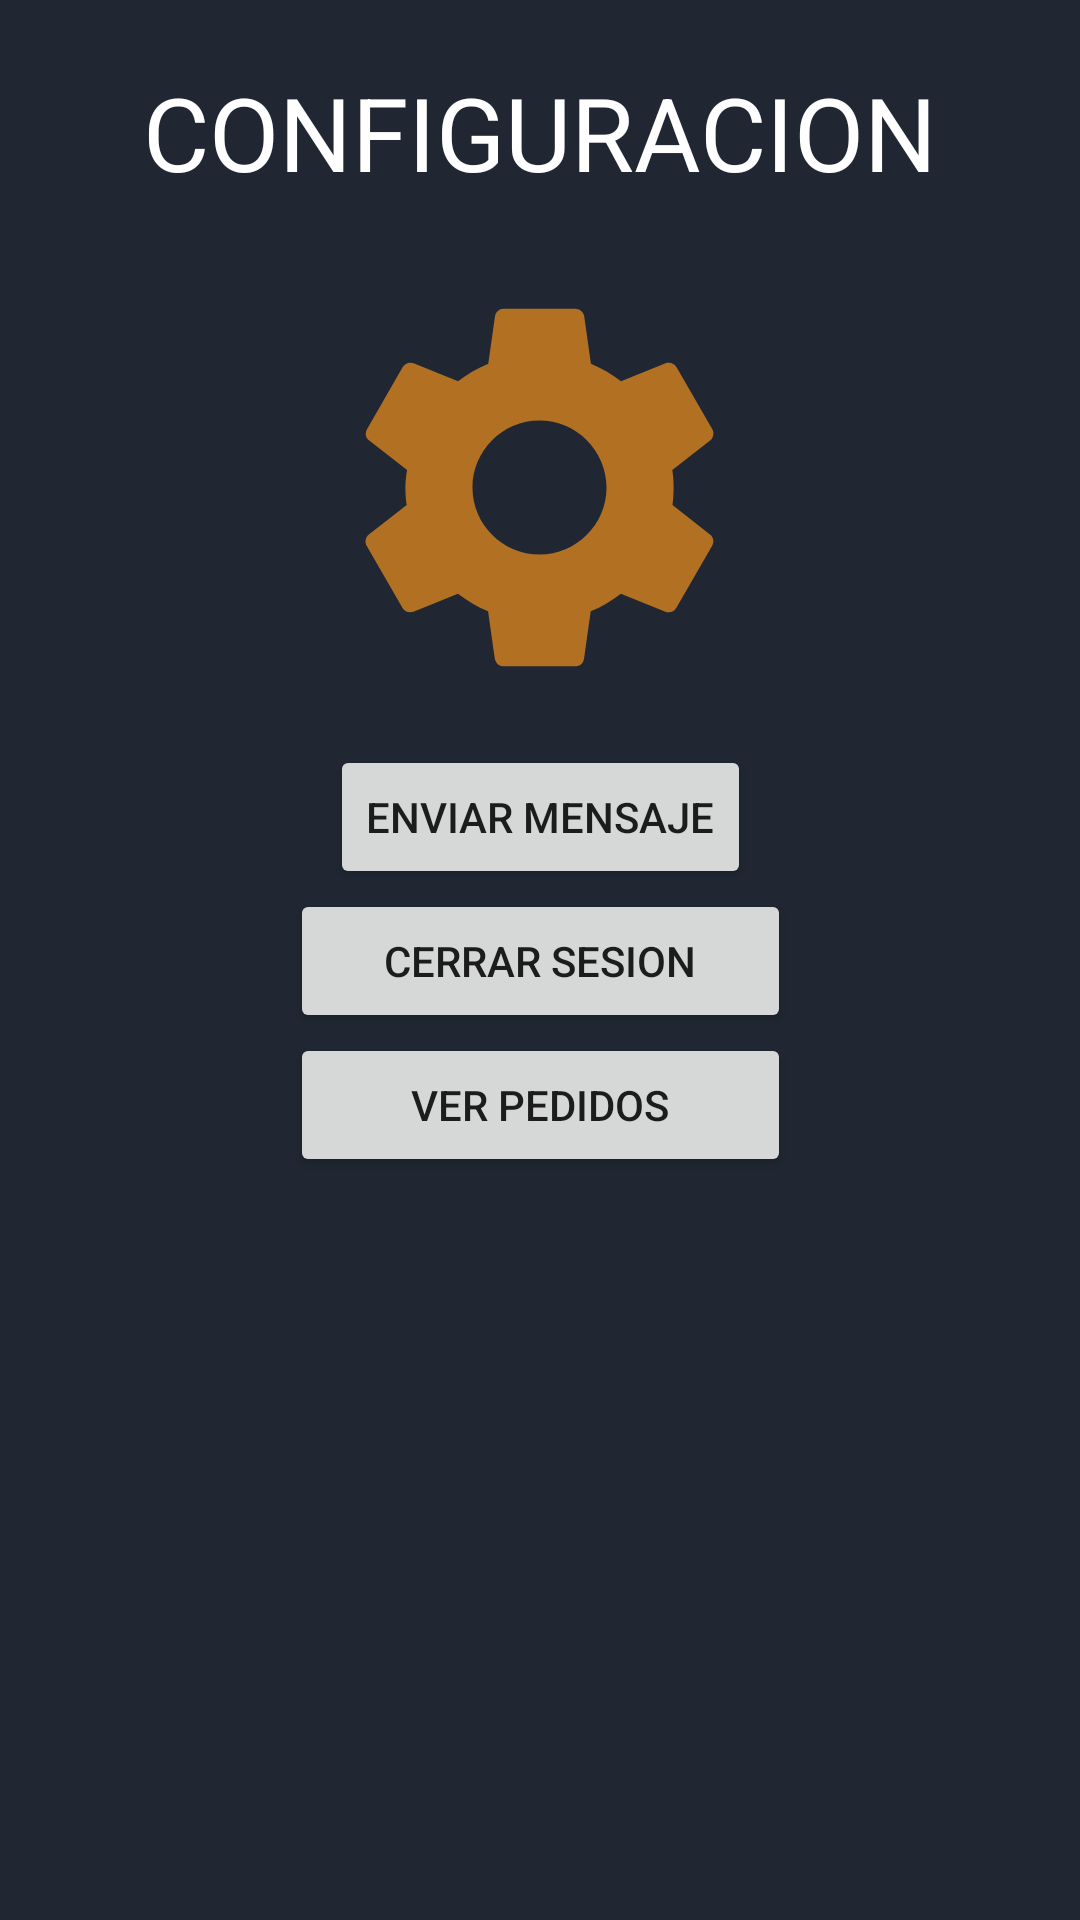

Where icons sit on this 1080w x 1920h app screen, as bbox(x1, y1, x2, y2):
setting: bbox(365, 308, 714, 667)
